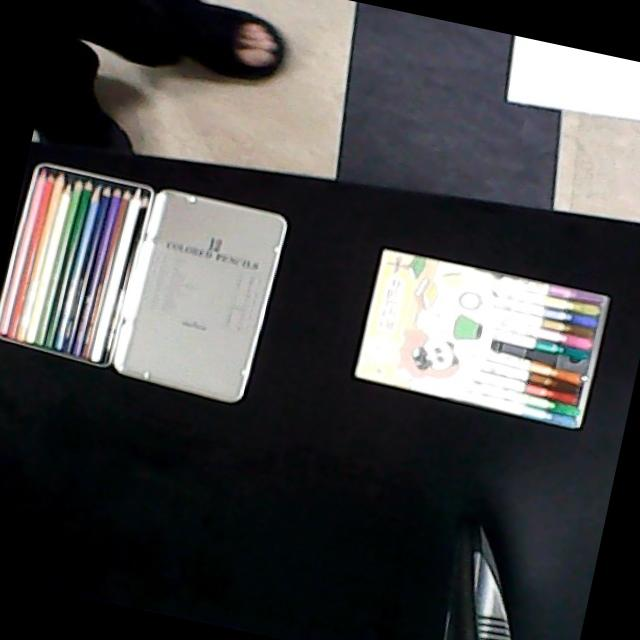color: (0, 155, 160, 371)
signpen: (350, 240, 616, 437)
